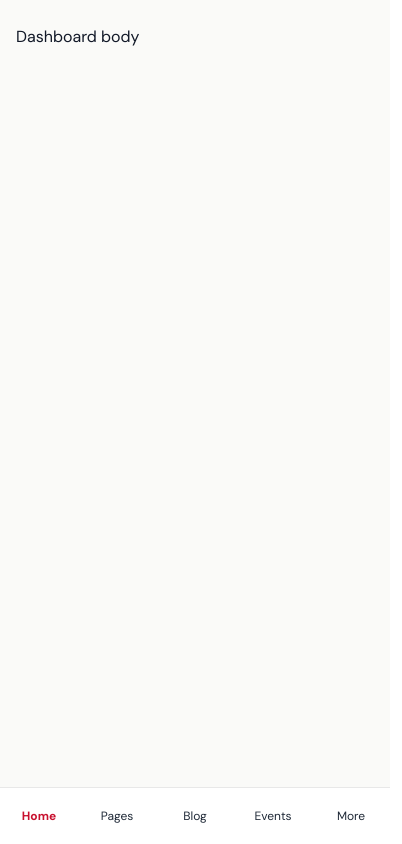
AdminLayout › shows a More button on the phone bar when further sections exist, and it toggles
Click the button "More" at (351, 816), box [312,788,390,843]
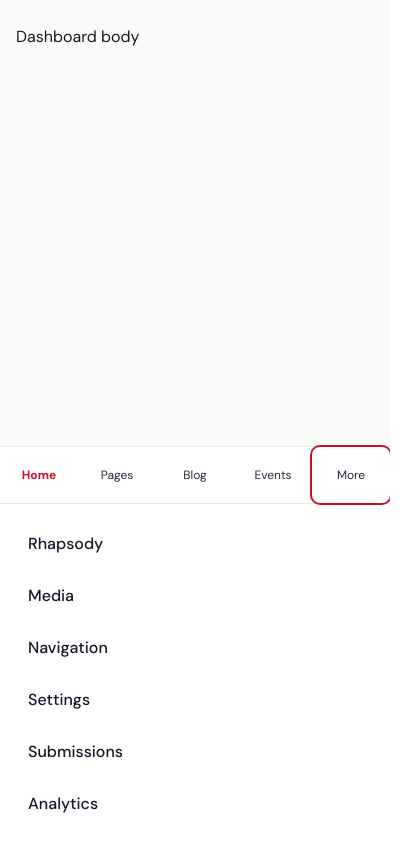
Expected: the button "More" is expanded, [312,447,390,503]
Expected: the link "Settings" is shown, [28,689,90,710]
